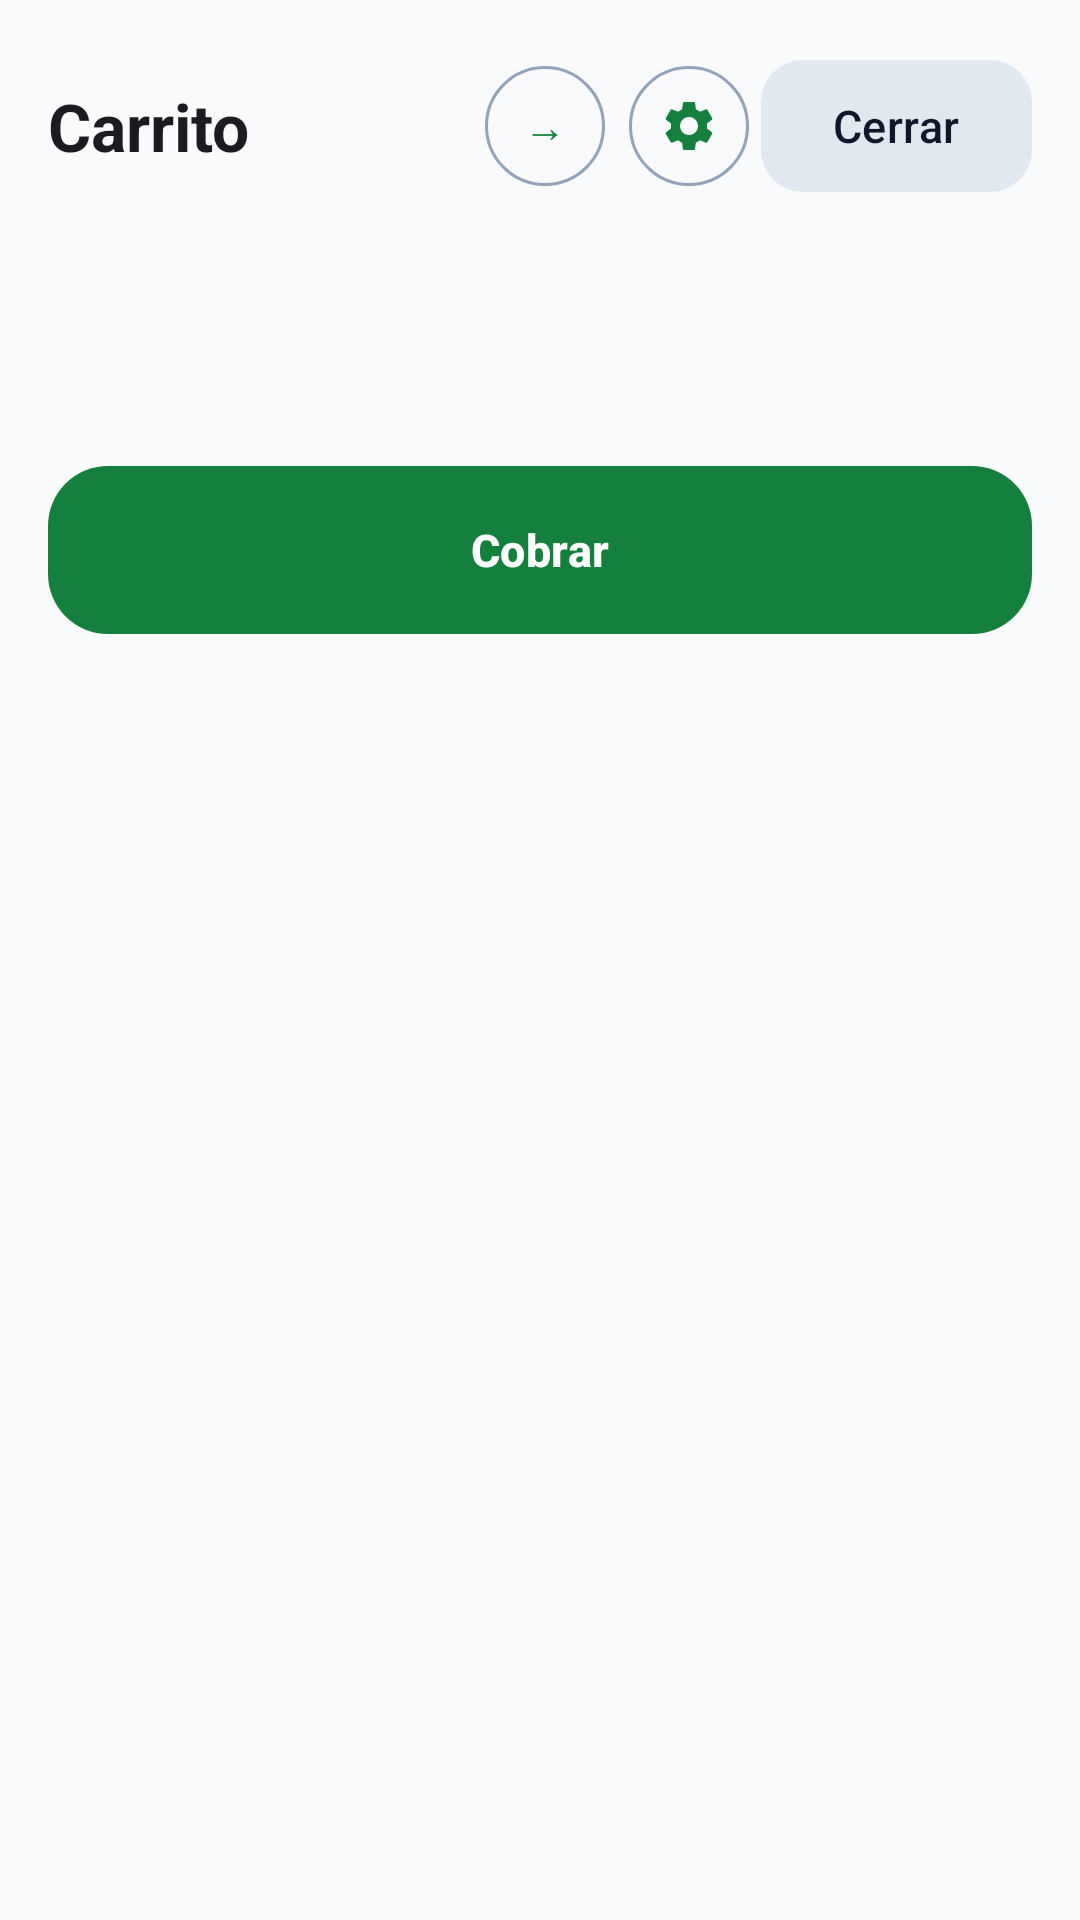

Screen size 1080×1920. Icon name, then its center in pixels as point (x, y):
Configuración: point (689, 126)
